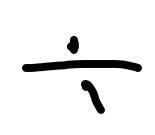div: (23, 35, 141, 114)
